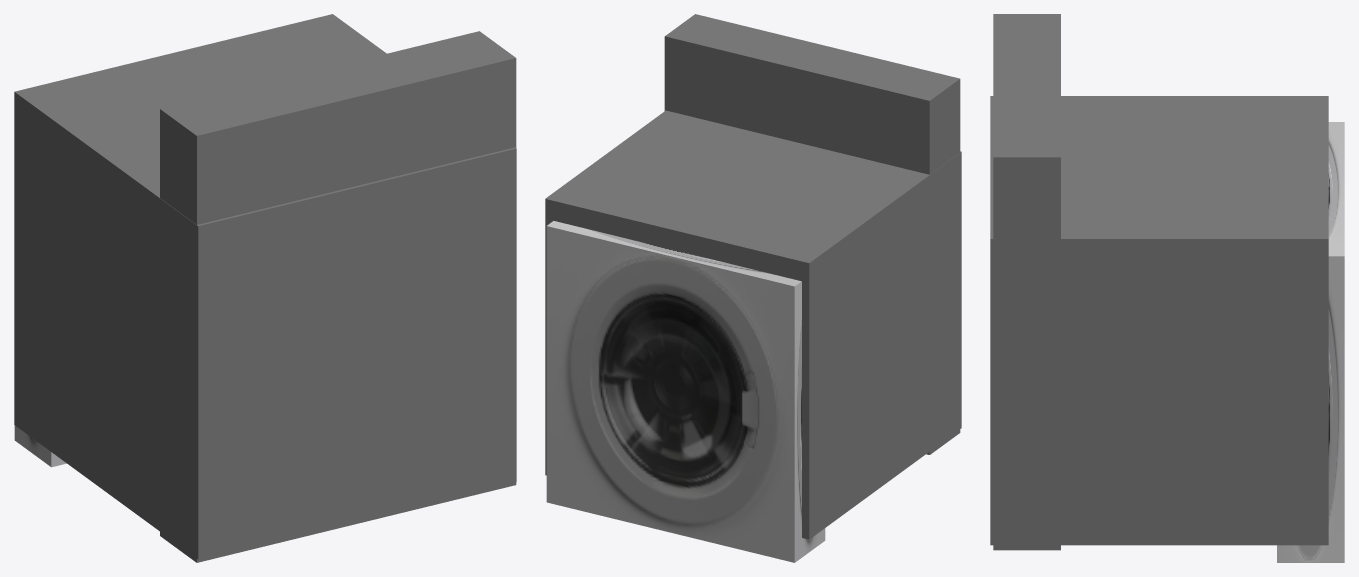
File: Oven.fbx
The picture shows the model from 3 angles, left to right: view 1: azimuth 30°, elevation 25°; view 2: azimuth 150°, elevation 25°; view 3: azimuth 270°, elevation 25°; orthographic projection. The views are drawn at different scales.
Parts seen in each view (by area): view 1: Oven, Cube__2_, Cube__3_; view 2: Oven, Cube__3_, Cube__2_; view 3: Oven, Cube__2_, Cube__3_.
Part boxes in pixels (left/top/right/bottom): Oven: left=14, top=14, right=516, bottom=559; Cube__2_: left=160, top=31, right=516, bottom=562; Cube__3_: left=14, top=425, right=66, bottom=467; Oven: left=545, top=110, right=961, bottom=539; Cube__3_: left=546, top=221, right=825, bottom=562; Cube__2_: left=664, top=14, right=960, bottom=454; Oven: left=990, top=96, right=1328, bottom=545; Cube__2_: left=993, top=14, right=1060, bottom=550; Cube__3_: left=1277, top=122, right=1344, bottom=562.
Bounding box in the file's own units: 50.2 × 66.97 × 52.33.
2 materials, 1 textured.
